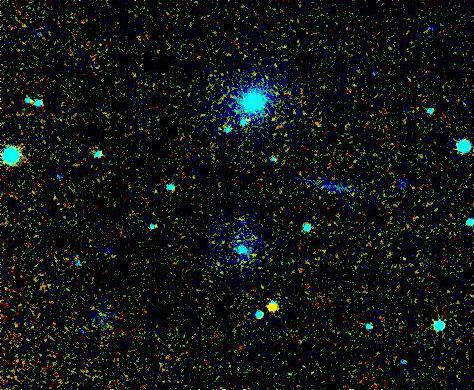star: (256, 292, 286, 322)
